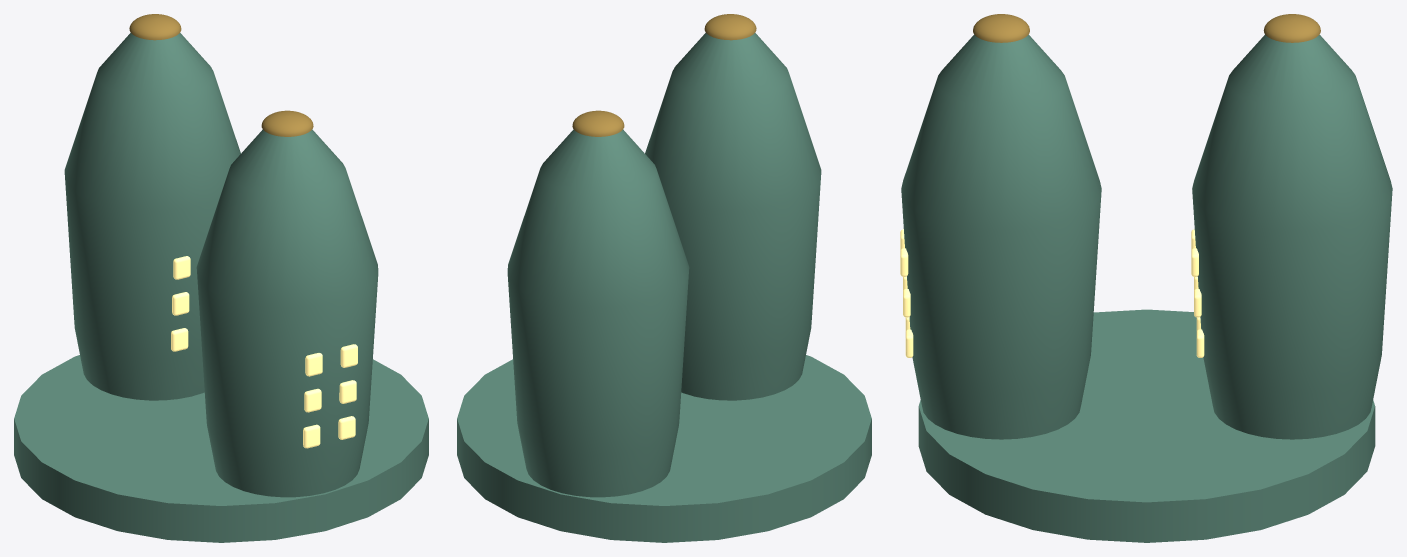
3 views of the same model, side by side, from view 1: azimuth 30°, elevation 25°; view 2: azimuth 150°, elevation 25°; view 3: azimuth 270°, elevation 25° (orthographic). The views are drawn at different scales.
Parts seen in each view (by area): view 1: Bulb shaped chamber.001, Bulb shaped chamber, Foundation drum, Tower crown, Tower crown.001; view 2: Bulb shaped chamber, Bulb shaped chamber.001, Foundation drum, Tower crown.001, Tower crown; view 3: Bulb shaped chamber, Bulb shaped chamber.001, Foundation drum, Tower crown, Tower crown.001.
Boxes of the visible parts, x1=… form: Bulb shaped chamber.001: x1=196, y1=129, x2=378, y2=497; Bulb shaped chamber: x1=64, y1=33, x2=240, y2=400; Foundation drum: x1=14, y1=355, x2=428, y2=542; Tower crown: x1=129, y1=14, x2=181, y2=40; Tower crown.001: x1=261, y1=110, x2=313, y2=136; Bulb shaped chamber: x1=507, y1=129, x2=689, y2=497; Bulb shaped chamber.001: x1=645, y1=33, x2=821, y2=400; Foundation drum: x1=457, y1=355, x2=871, y2=542; Tower crown.001: x1=704, y1=14, x2=756, y2=40; Tower crown: x1=572, y1=110, x2=624, y2=136; Bulb shaped chamber: x1=1192, y1=34, x2=1392, y2=439; Bulb shaped chamber.001: x1=901, y1=34, x2=1101, y2=439; Foundation drum: x1=918, y1=309, x2=1375, y2=542; Tower crown: x1=1263, y1=14, x2=1320, y2=42; Tower crown.001: x1=973, y1=14, x2=1029, y2=42.
Size of the model in its own units: 2.04 by 2.11 by 2.2.
